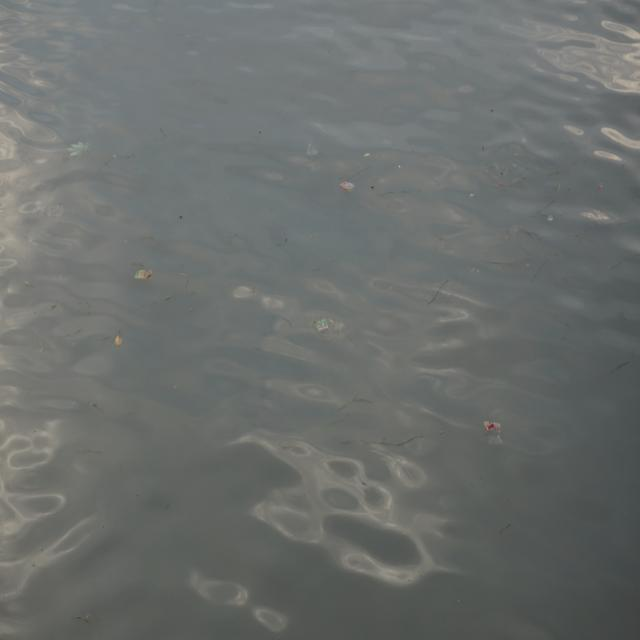Bungkus Makanan: (135, 266, 154, 283), (339, 179, 358, 195), (315, 317, 330, 335), (485, 420, 503, 435)
Bungkus Minuman: (488, 434, 504, 449)
